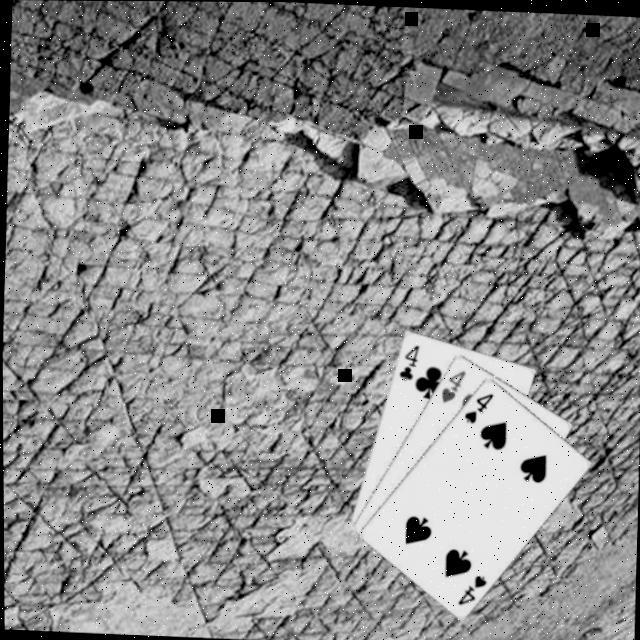4C: (395, 341, 421, 384)
4H: (438, 364, 468, 406)
4S: (460, 389, 496, 426), (454, 571, 489, 608)
